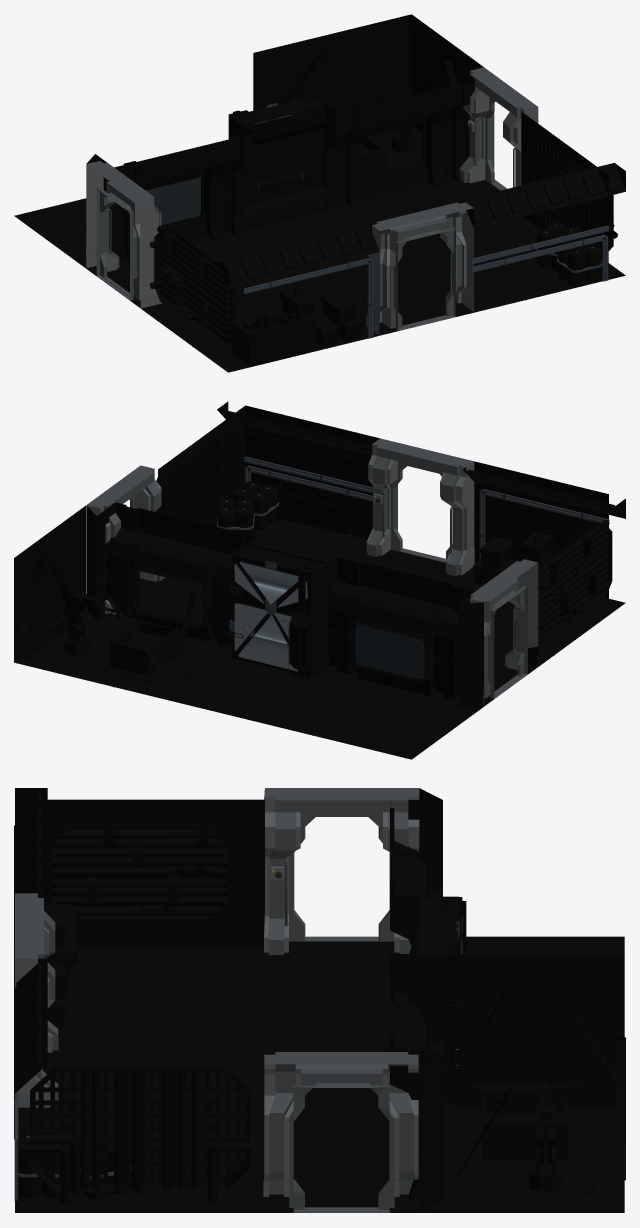
The model's file is ROOMx3T_2.fbx.
The picture shows the model from 3 angles, top to bottom: view 1: azimuth 30°, elevation 25°; view 2: azimuth 150°, elevation 25°; view 3: azimuth 270°, elevation 25°; orthographic projection. The views are drawn at different scales.
Parts seen in each view (by area): view 1: Plane.022, ROOMx3T_2, Main.019, Cube.259, Cube.260, OptionEMPTY.016, Plane.023, Cube.257, Cube.256, Cube.253, Cube.269, Cube.255 (+8 smaller); view 2: Plane.022, Main.019, Cube.260, ROOMx3T_2, Cube.259, Plane.023, OptionEVENTElectrisity.001, Cube.269, Cube.267, Gen.014, Cube.257, Cube.256 (+9 smaller); view 3: Plane.022, Main.019, ROOMx3T_2, Plane.023, Cube.269, Cube.259, Cube.260, Cube.267, Cube.256, Cube.257, OptionEVENTgenerator.001, Cylinder.058 (+22 smaller).
Boxes of the visible parts, bbox=[...] form: Plane.022: bbox=[14, 126, 625, 372]; ROOMx3T_2: bbox=[86, 67, 538, 335]; Main.019: bbox=[154, 14, 613, 343]; Cube.259: bbox=[316, 65, 482, 212]; Cube.260: bbox=[86, 120, 253, 267]; OptionEMPTY.016: bbox=[244, 107, 326, 230]; Plane.023: bbox=[263, 18, 465, 132]; Cube.257: bbox=[217, 223, 380, 288]; Cube.256: bbox=[462, 163, 625, 228]; Cube.253: bbox=[231, 306, 317, 367]; Cube.269: bbox=[525, 132, 603, 250]; Cube.255: bbox=[557, 237, 602, 286]; Plane.022: bbox=[14, 518, 625, 759]; Main.019: bbox=[14, 405, 612, 666]; Cube.260: bbox=[318, 556, 483, 708]; ROOMx3T_2: bbox=[86, 438, 538, 706]; Cube.259: bbox=[86, 502, 254, 645]; Plane.023: bbox=[17, 516, 228, 683]; OptionEVENTElectrisity.001: bbox=[234, 555, 326, 672]; Cube.269: bbox=[162, 427, 241, 525]; Cube.267: bbox=[110, 620, 179, 675]; Gen.014: bbox=[228, 565, 317, 679]; Cube.257: bbox=[462, 467, 625, 518]; Cube.256: bbox=[217, 401, 372, 456]; Plane.022: bbox=[15, 936, 624, 1212]; Main.019: bbox=[14, 790, 624, 1191]; ROOMx3T_2: bbox=[15, 788, 419, 1212]; Plane.023: bbox=[453, 959, 625, 1194]; Cube.269: bbox=[30, 1067, 249, 1184]; Cube.259: bbox=[390, 954, 442, 1212]; Cube.260: bbox=[390, 788, 442, 953]; Cube.267: bbox=[482, 1098, 567, 1160]; Cube.256: bbox=[15, 958, 47, 1093]; Cube.257: bbox=[15, 788, 47, 897]; OptionEVENTgenerator.001: bbox=[420, 898, 461, 954]; Cylinder.058: bbox=[131, 1067, 145, 1193].
Size of the model in its own units: 10.02 by 2.59 by 9.38.
